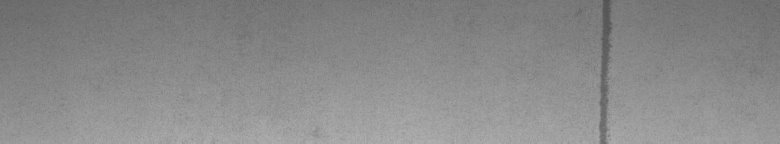hd: (576, 4, 616, 136)
